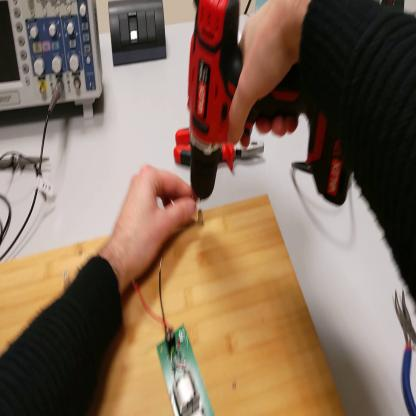electric screwdriver: (186, 2, 350, 210)
hand: (228, 4, 308, 147), (111, 166, 195, 281)
high voltage board: (130, 259, 214, 411)
oscilloscope: (2, 2, 106, 133)
oscilloscope probe tip: (2, 150, 51, 174)
pliers: (173, 131, 268, 168), (394, 287, 416, 413)
working area: (1, 200, 344, 416)
